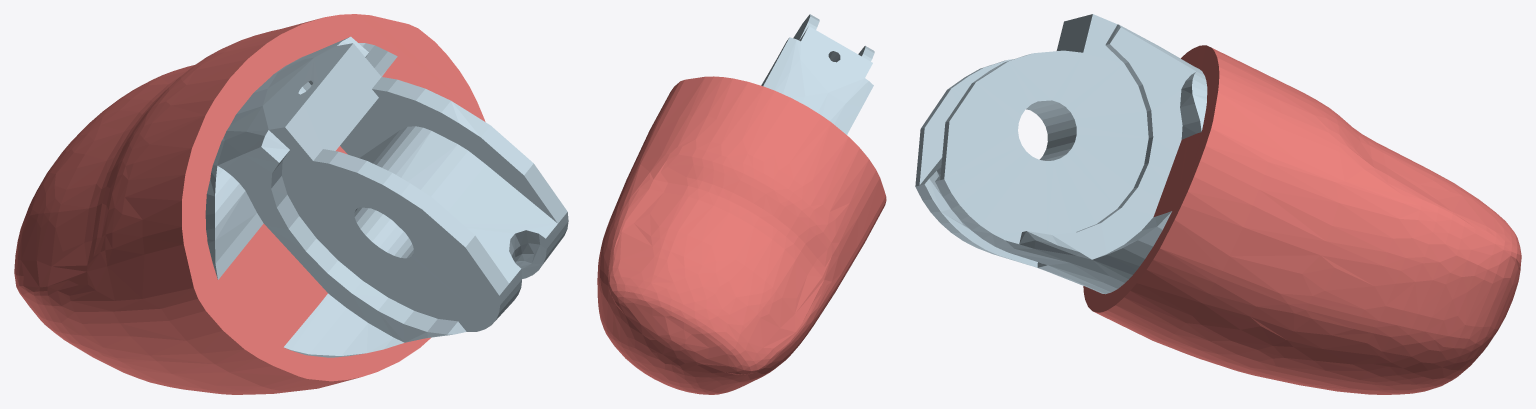
File: i02_rightHand_indexTip_visual.obj.light.glb
3 renders of one model, left to right at view 1: azimuth 30°, elevation 25°; view 2: azimuth 150°, elevation 25°; view 3: azimuth 270°, elevation 25°, orthographic. The views are drawn at different scales.
Bounding box in the file's own units: 0.1887 × 0.2409 × 0.3548.
